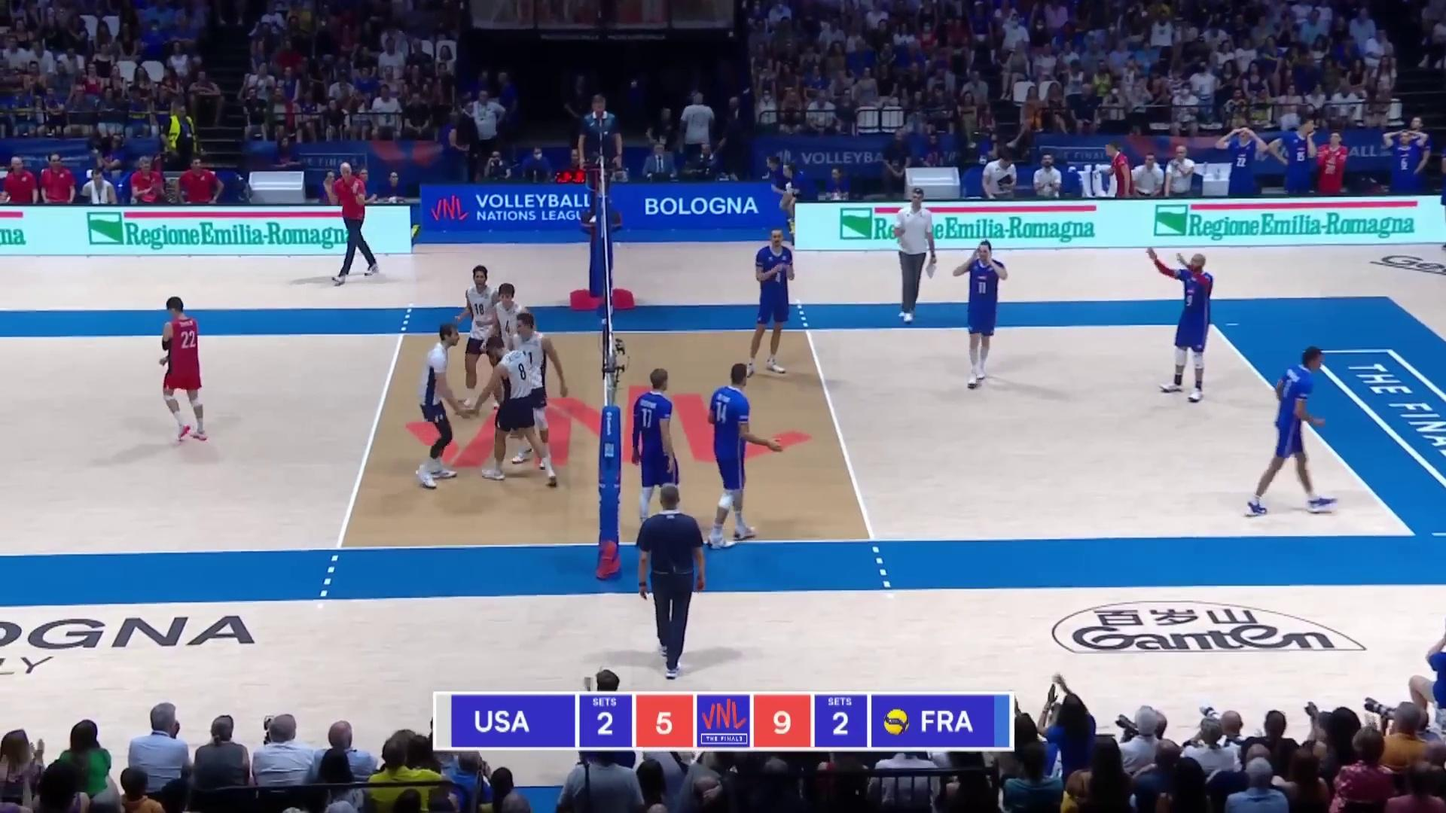player: (1247, 347, 1333, 515), (706, 367, 783, 548), (476, 333, 556, 486), (408, 321, 474, 490), (502, 312, 564, 477), (630, 367, 690, 530), (1152, 249, 1215, 400), (453, 264, 508, 413), (954, 239, 1005, 385), (157, 296, 206, 442), (490, 284, 541, 417), (752, 230, 799, 372)
refree: (634, 491, 705, 674), (580, 96, 624, 228)
